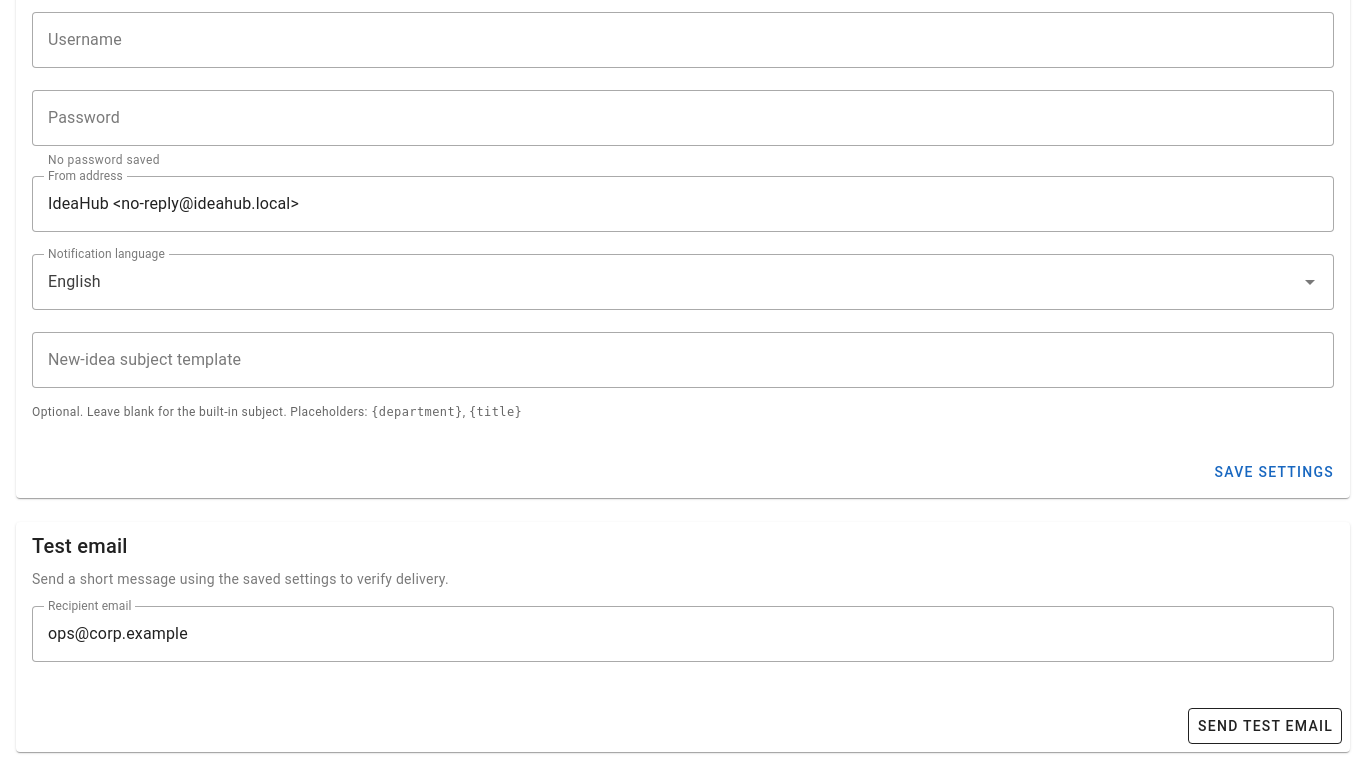
Test case: MailSettingsPage › sends a test email and surfaces a success result
(page scrolled)
Click the button "Send test email".
click(1265, 726)  # box left=1188, top=708, right=1342, bottom=744
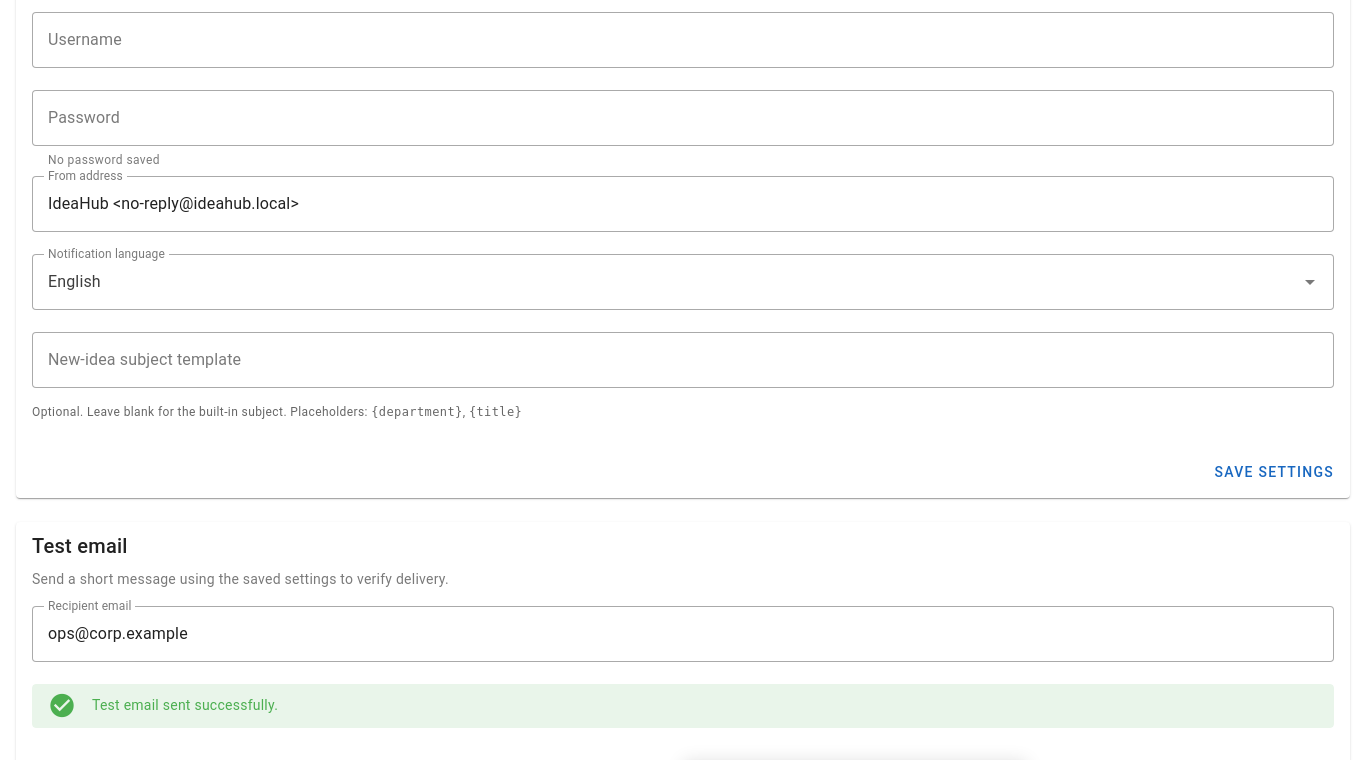
Now the text "Test email sent successfully." is shown, box left=92, top=697, right=278, bottom=713
